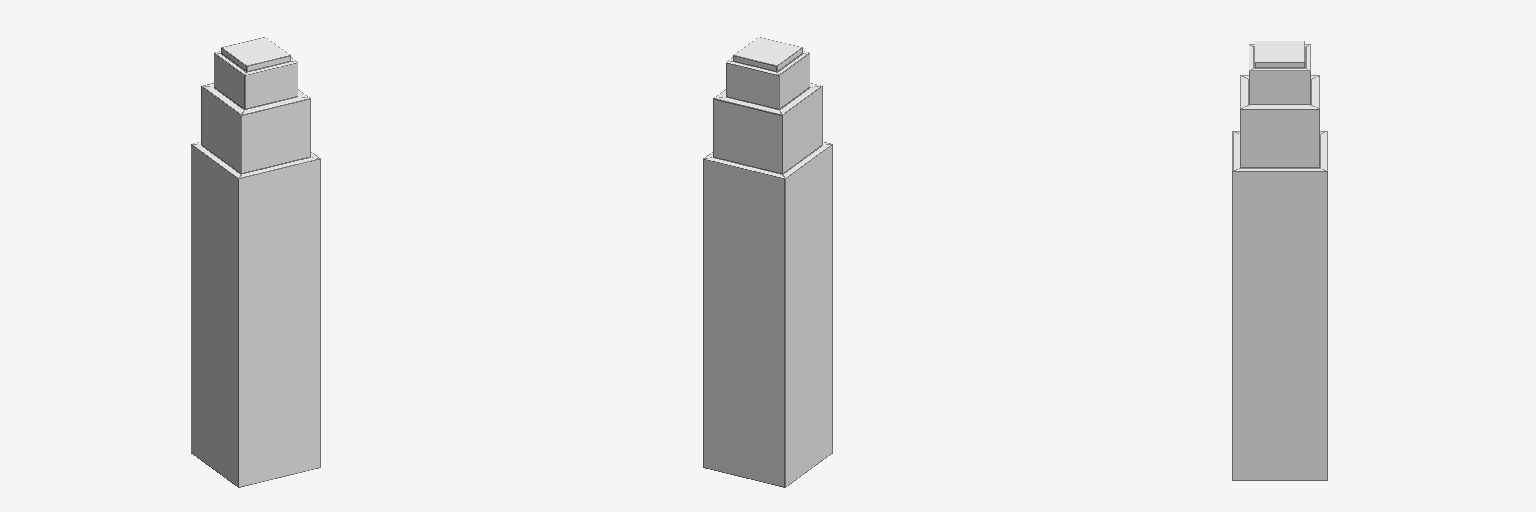
3 views of the same model, side by side, from view 1: azimuth 30°, elevation 25°; view 2: azimuth 150°, elevation 25°; view 3: azimuth 270°, elevation 25° (orthographic).
Visible parts, largest first — view 1: cube3_copy20; view 2: cube3_copy20; view 3: cube3_copy20.
Boxes of the visible parts, x1=… form: cube3_copy20: x1=191, y1=37, x2=320, y2=487; cube3_copy20: x1=703, y1=37, x2=832, y2=487; cube3_copy20: x1=1232, y1=41, x2=1327, y2=480.
Size of the model in its own units: 0.4189 by 1.99 by 0.4189.
Materials: 1 (1 with a texture image).